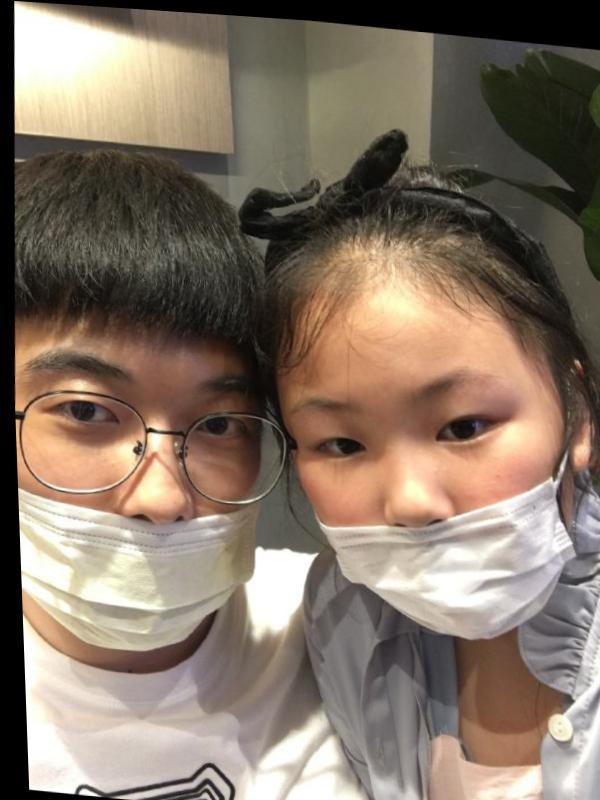WRONG: (265, 307, 572, 644), (10, 308, 275, 666)
